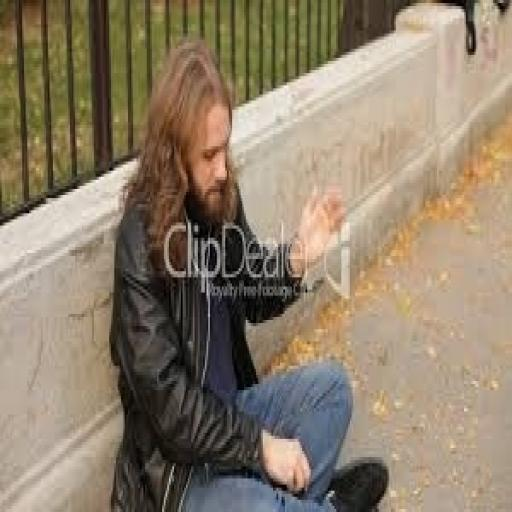listening_to_music: (107, 37, 391, 509)
